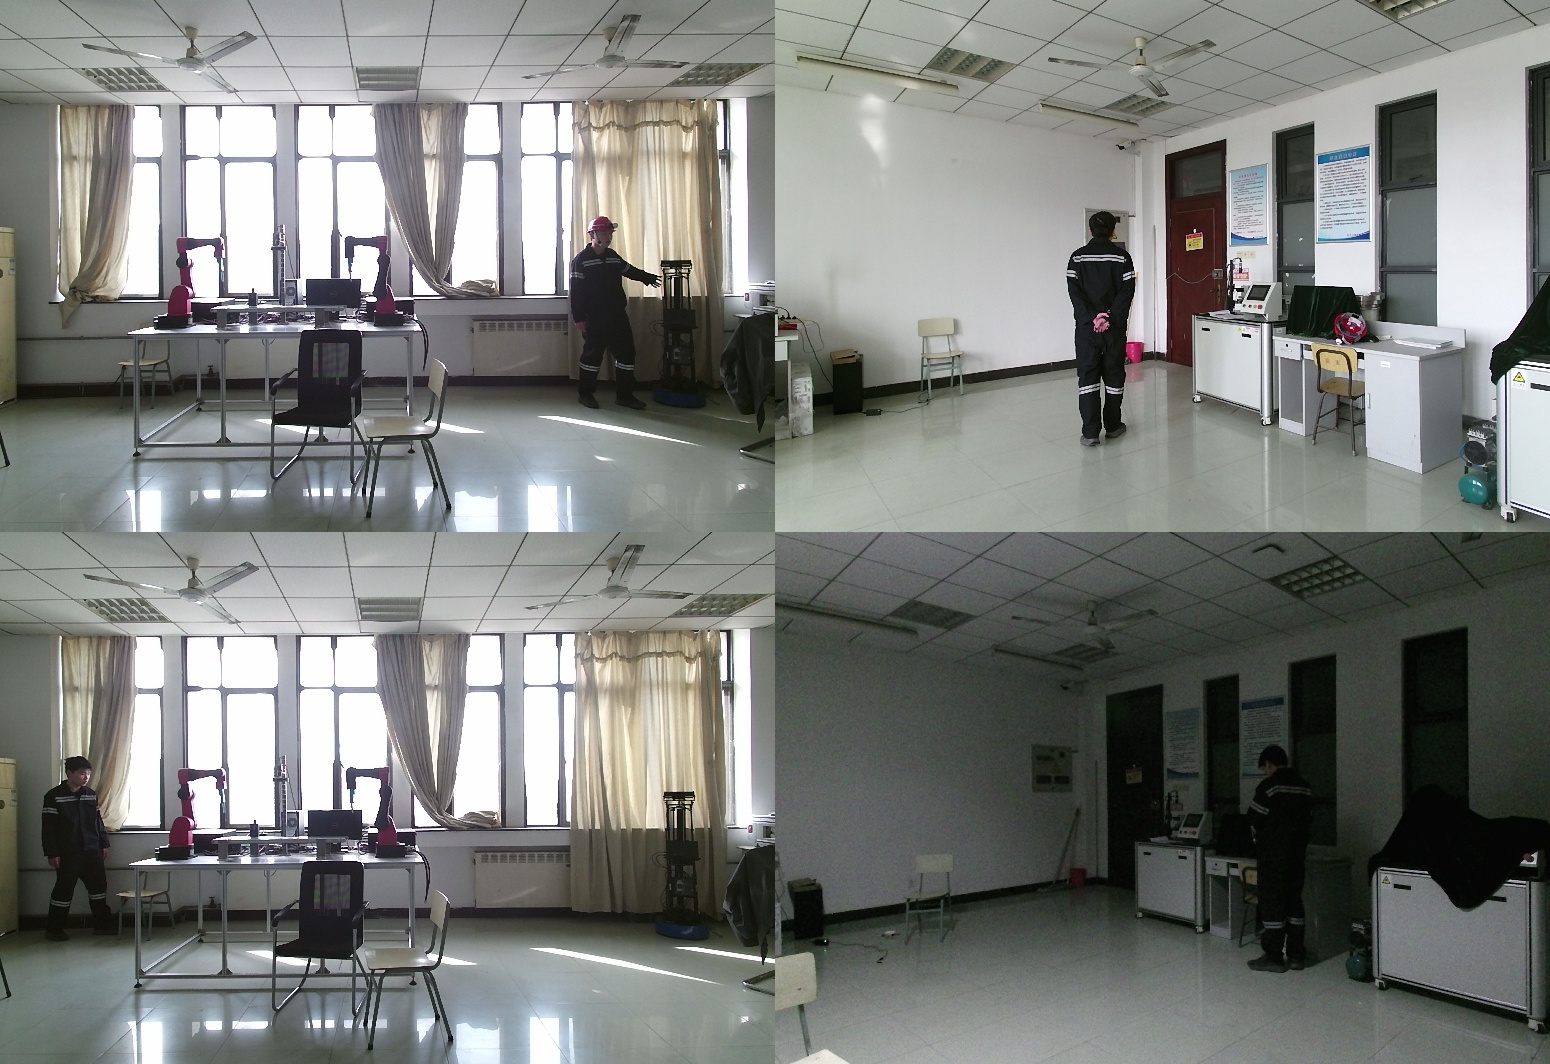person: (1245, 745, 1334, 972), (1062, 211, 1144, 450), (568, 215, 662, 415), (35, 758, 118, 942)
